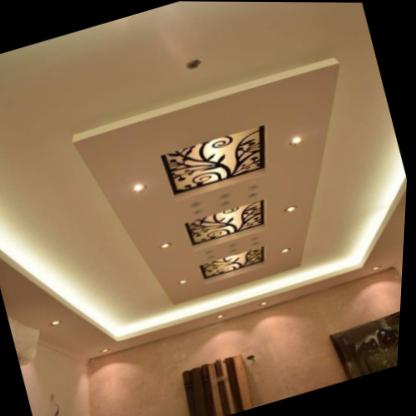Gypsum Board: (0, 0, 416, 390)
